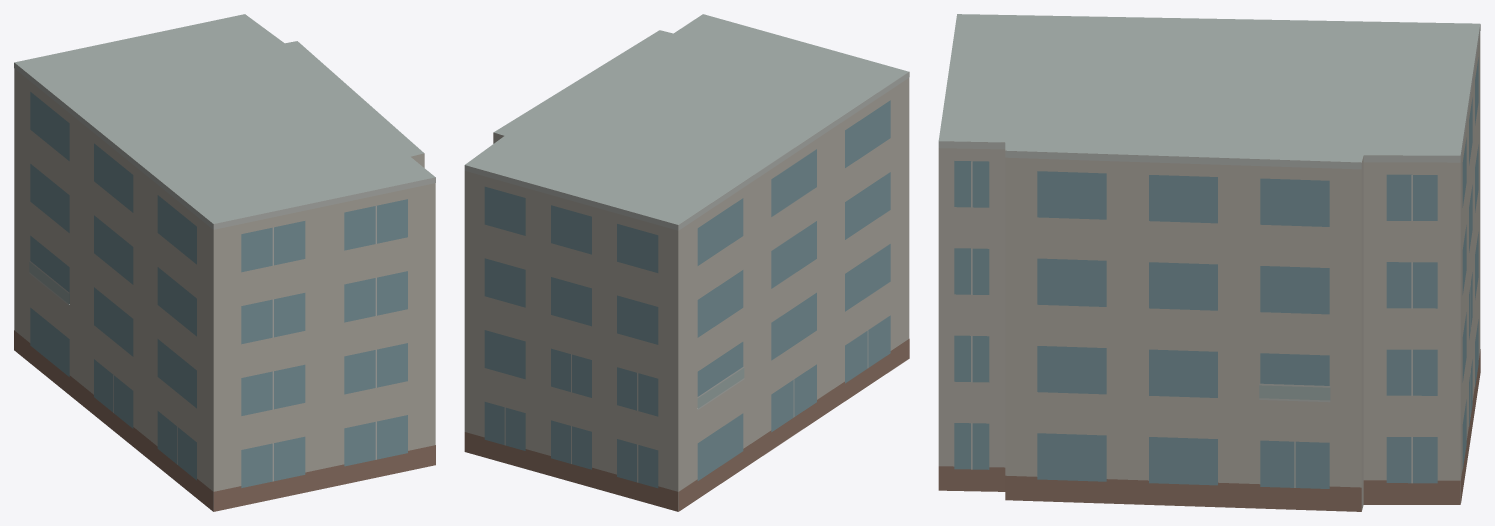
File: survey-upis-32668406.glb
The picture shows the model from 3 angles, left to right: view 1: azimuth 30°, elevation 25°; view 2: azimuth 150°, elevation 25°; view 3: azimuth 270°, elevation 25°; orthographic projection. The views are drawn at different scales.
Parts seen in each view (by area): view 1: survey-upis-32668406.tmp; view 2: survey-upis-32668406.tmp; view 3: survey-upis-32668406.tmp.
Boxes of the visible parts, bbox=[...] form: survey-upis-32668406.tmp: bbox=[14, 14, 435, 511]; survey-upis-32668406.tmp: bbox=[464, 14, 909, 511]; survey-upis-32668406.tmp: bbox=[938, 14, 1480, 511].
Bounding box in the file's own units: 11.13 × 12.2 × 17.16.
